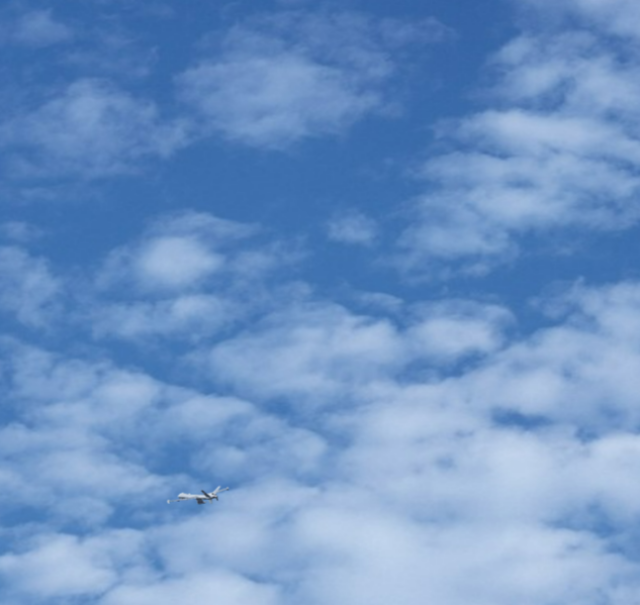military drone: (166, 485, 229, 504)
